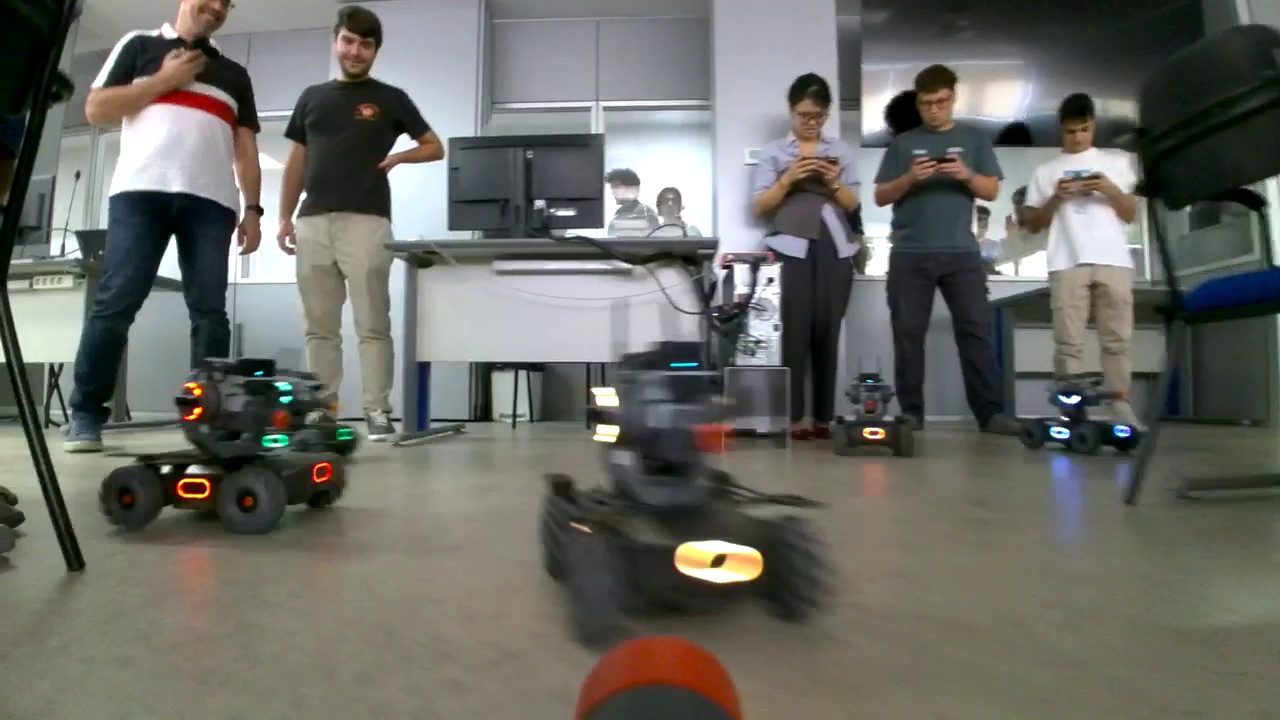robot: (544, 297, 818, 623), (94, 325, 355, 532), (1016, 359, 1140, 455), (829, 354, 914, 454)
